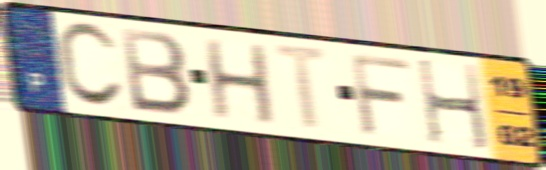B: (118, 25, 195, 118)
C: (53, 19, 128, 112)
F: (347, 50, 414, 140)
H: (414, 57, 492, 154), (201, 37, 279, 128)
T: (271, 40, 336, 134)
